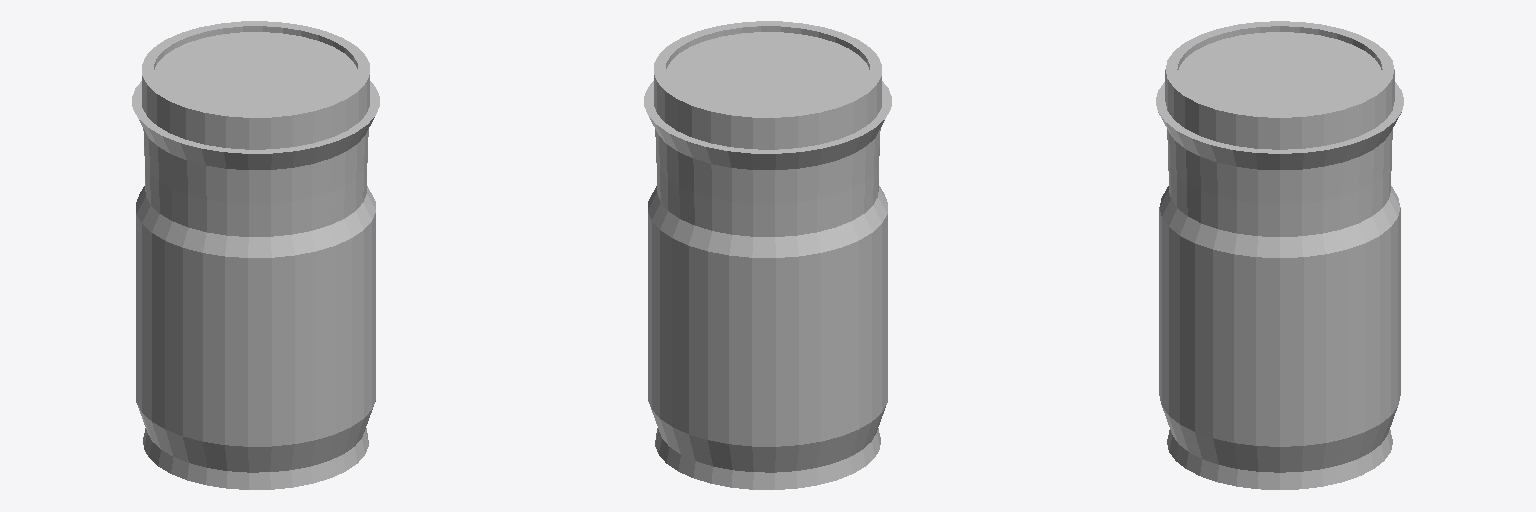
Rendered from ether.obj.
The picture shows the model from 3 angles: view 1: azimuth 30°, elevation 25°; view 2: azimuth 150°, elevation 25°; view 3: azimuth 270°, elevation 25°; orthographic projection.
Parts seen in each view (by area): view 1: Cylinder; view 2: Cylinder; view 3: Cylinder.
Part boxes in pixels (bbox=[...]): Cylinder: bbox=[132, 21, 379, 489]; Cylinder: bbox=[644, 21, 891, 489]; Cylinder: bbox=[1156, 21, 1403, 489].
Size of the model in its own units: 0.5 by 0.8265 by 0.5.